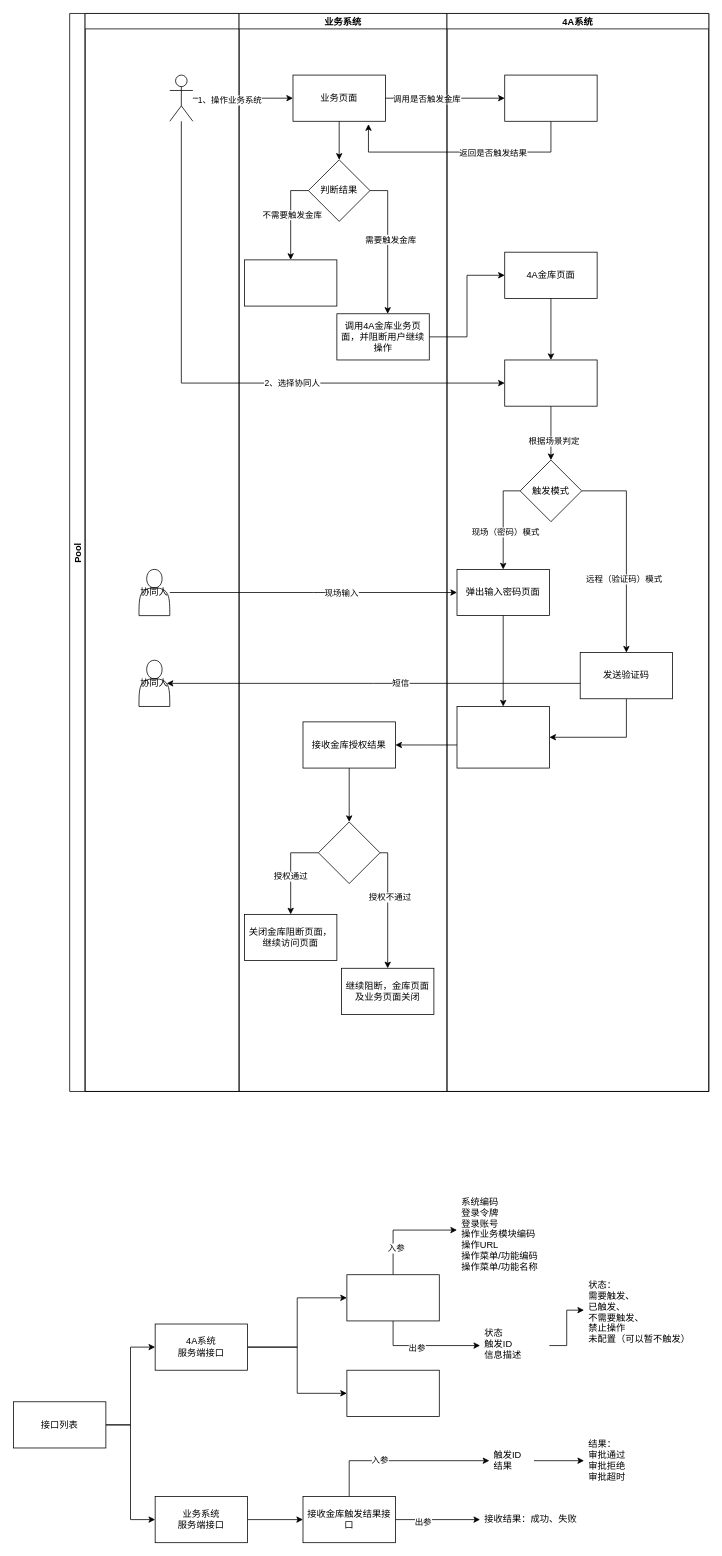
Some shapes in this 722 by 1556 pixel diagram are drawn without their labels. Each missing label, with the box of its shape:
业务操作人: (169, 74, 193, 121)
弹出选择协同人: (504, 359, 597, 406)
是否需要触发金库接口: (346, 1274, 439, 1321)
校验输入内容， 获得校验结果 通过 密码错误 不授权: (456, 706, 549, 768)
用户: (84, 13, 239, 1091)
结果: (318, 821, 380, 884)
继续访问业务页面: (244, 259, 337, 306)
金库是否触发: (504, 74, 597, 121)
金库触发页面: (346, 1369, 439, 1416)
